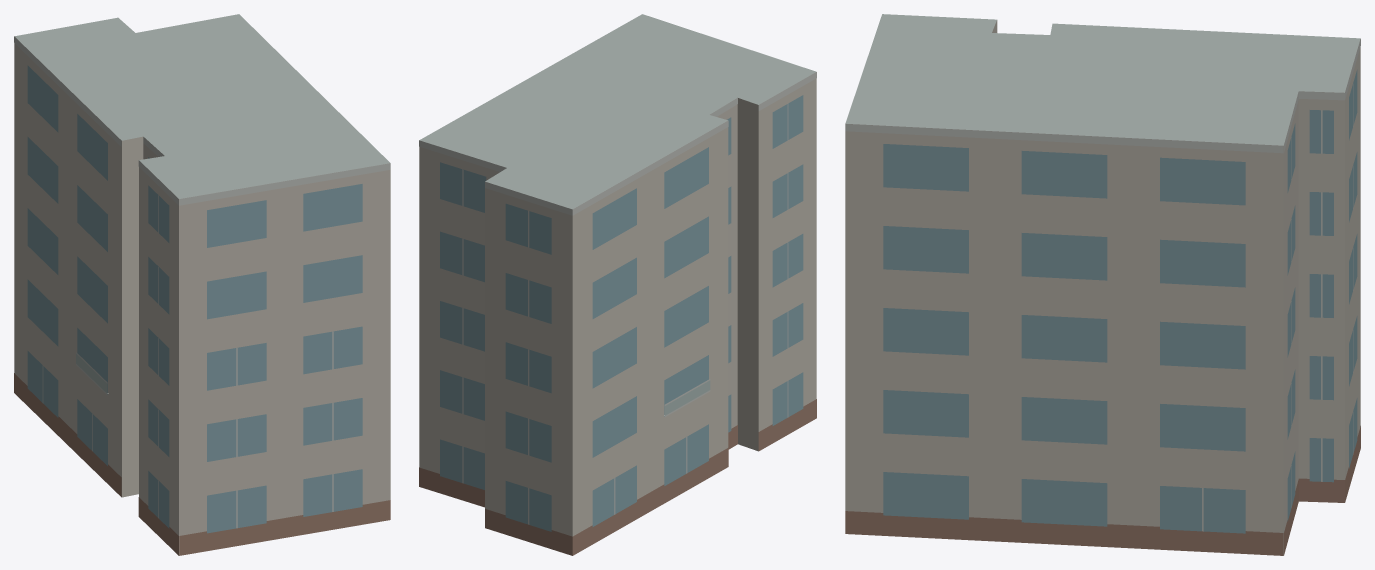
The model's file is survey-upis-32669369.glb.
3 views of the same model, side by side, from view 1: azimuth 30°, elevation 25°; view 2: azimuth 150°, elevation 25°; view 3: azimuth 270°, elevation 25° (orthographic). The views are drawn at different scales.
Visible parts, largest first — view 1: survey-upis-32669369.tmp; view 2: survey-upis-32669369.tmp; view 3: survey-upis-32669369.tmp.
Boxes of the visible parts, x1,y1,x2,y2 form: survey-upis-32669369.tmp: (14,14,390,555); survey-upis-32669369.tmp: (419,14,816,555); survey-upis-32669369.tmp: (845,14,1360,555).
Size of the model in its own units: 9.1 by 13.2 by 15.04.
